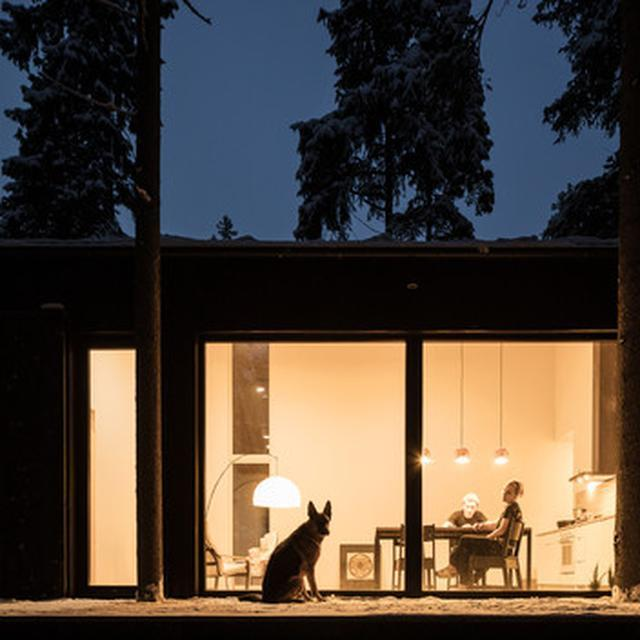building: (3, 232, 640, 595)
